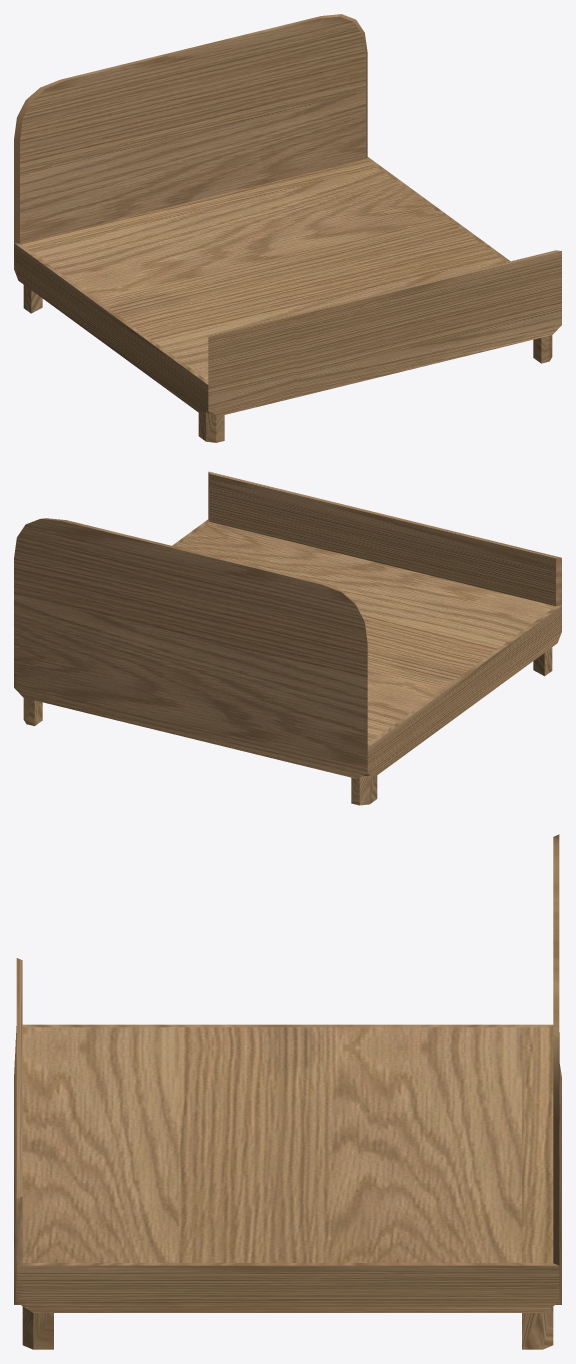
The model's file is bed board.FBX.
The picture shows the model from 3 angles, top to bottom: view 1: azimuth 30°, elevation 25°; view 2: azimuth 150°, elevation 25°; view 3: azimuth 270°, elevation 25°; orthographic projection. The views are drawn at different scales.
Visible parts, largest first — view 1: Box006; view 2: Box006; view 3: Box006.
Boxes of the visible parts, <box> form: Box006: <box>14,14,561,442</box>; Box006: <box>14,471,561,805</box>; Box006: <box>14,834,561,1349</box>.
Bounding box in the file's own units: 82.51 × 47.25 × 78.51.
1 material, 1 textured.
